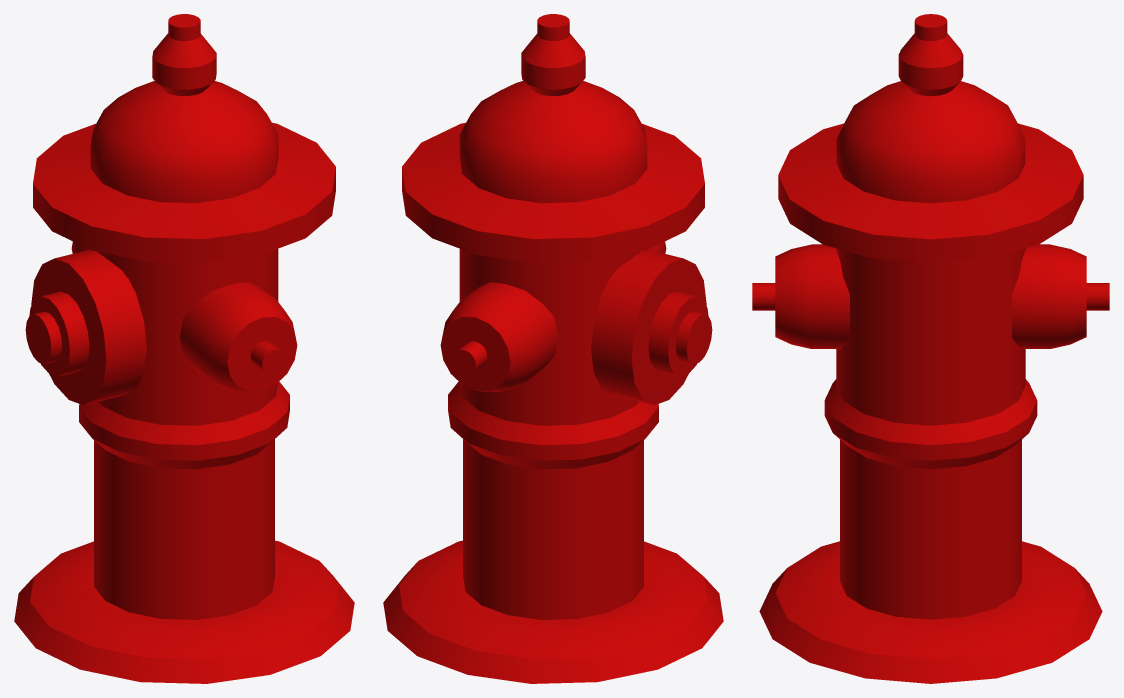
The model's file is fire_hydrant.obj.
The picture shows the model from 3 angles, left to right: view 1: azimuth 30°, elevation 25°; view 2: azimuth 150°, elevation 25°; view 3: azimuth 270°, elevation 25°; orthographic projection.
Parts seen in each view (by area): view 1: Base; view 2: Base; view 3: Base.
Boxes of the visible parts, x1,y1,x2,y2 form: Base: [14, 14, 354, 683]; Base: [383, 14, 723, 683]; Base: [752, 14, 1109, 683].
Size of the model in its own units: 3.29 by 6.25 by 3.42.
